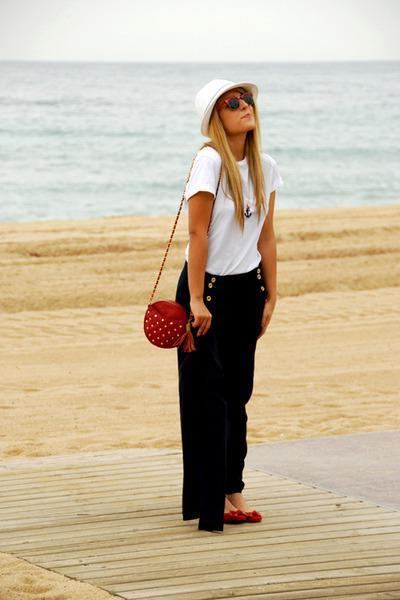short sleeve shirt: (183, 145, 282, 278)
trousers: (171, 264, 268, 528)
